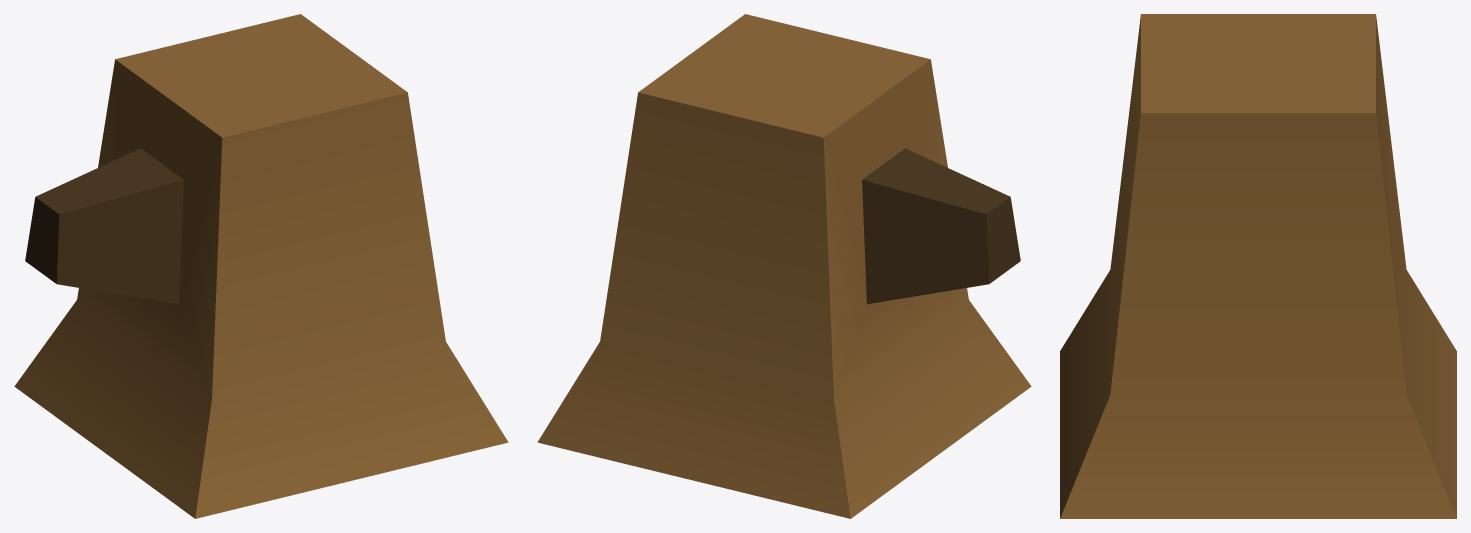
The model's file is IP2_1_treeStump_small.obj.
3 views of the same model, side by side, from view 1: azimuth 30°, elevation 25°; view 2: azimuth 150°, elevation 25°; view 3: azimuth 270°, elevation 25° (orthographic). The views are drawn at different scales.
Parts seen in each view (by area): view 1: Trunk_Alt_02; view 2: Trunk_Alt_02; view 3: Trunk_Alt_02.
Boxes of the visible parts, box(x1,y1,x2,y2) form: Trunk_Alt_02: box(14, 14, 508, 518); Trunk_Alt_02: box(537, 14, 1031, 518); Trunk_Alt_02: box(1060, 14, 1456, 518).
Bounding box in the file's own units: 20.64 × 17.7 × 17.14.
